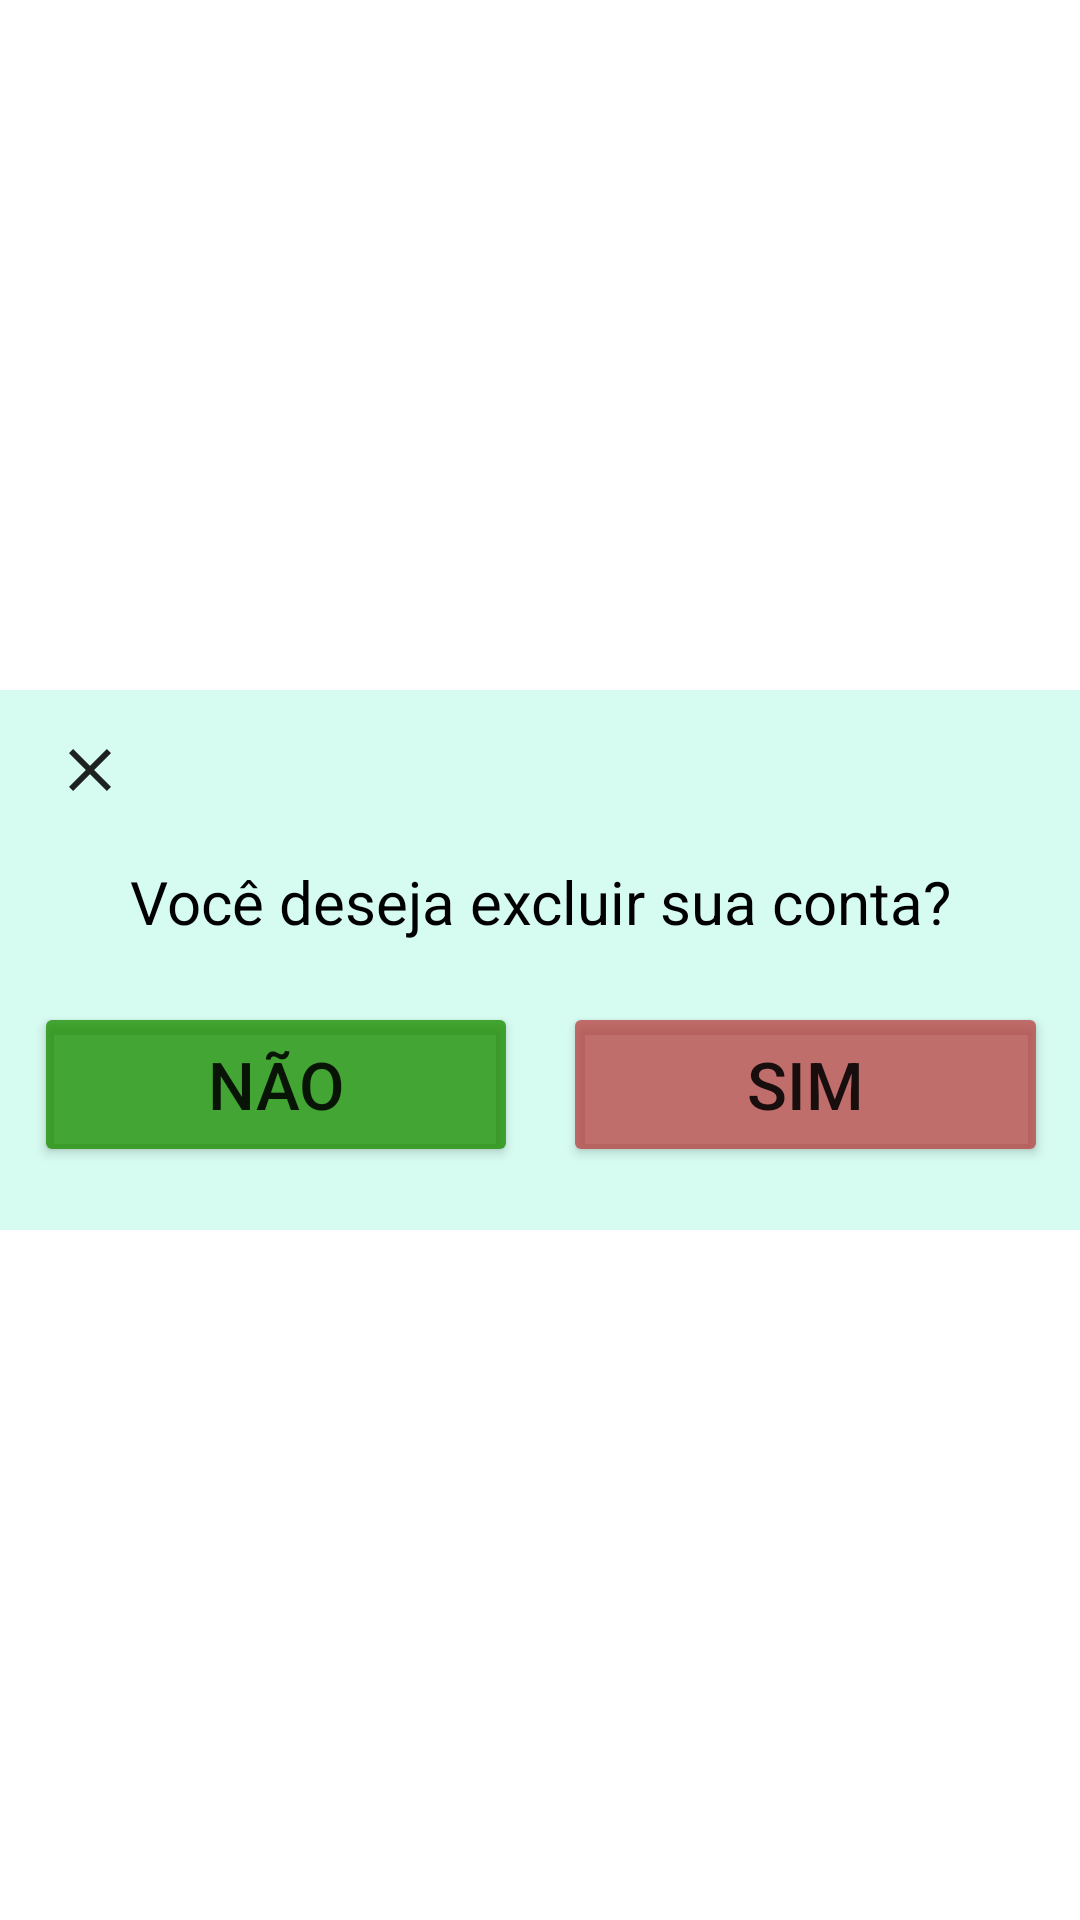

Where icons sit on this 1080x1920 app screen, as {"left": x1, "top": y1, "right": x2, "bottom": y2}:
close: {"left": 69, "top": 749, "right": 111, "bottom": 791}
